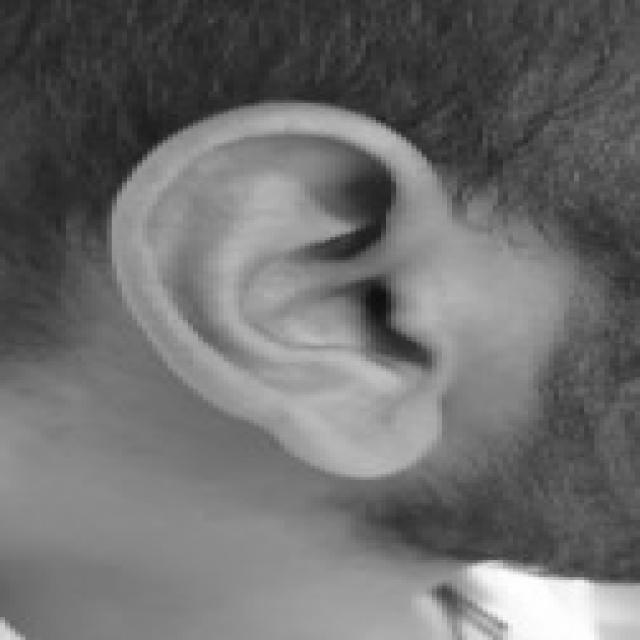ear: (107, 100, 442, 471)
